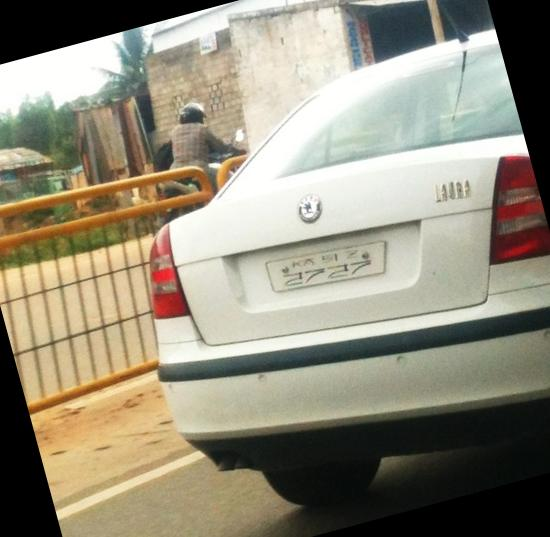plate: (262, 217, 405, 320)
